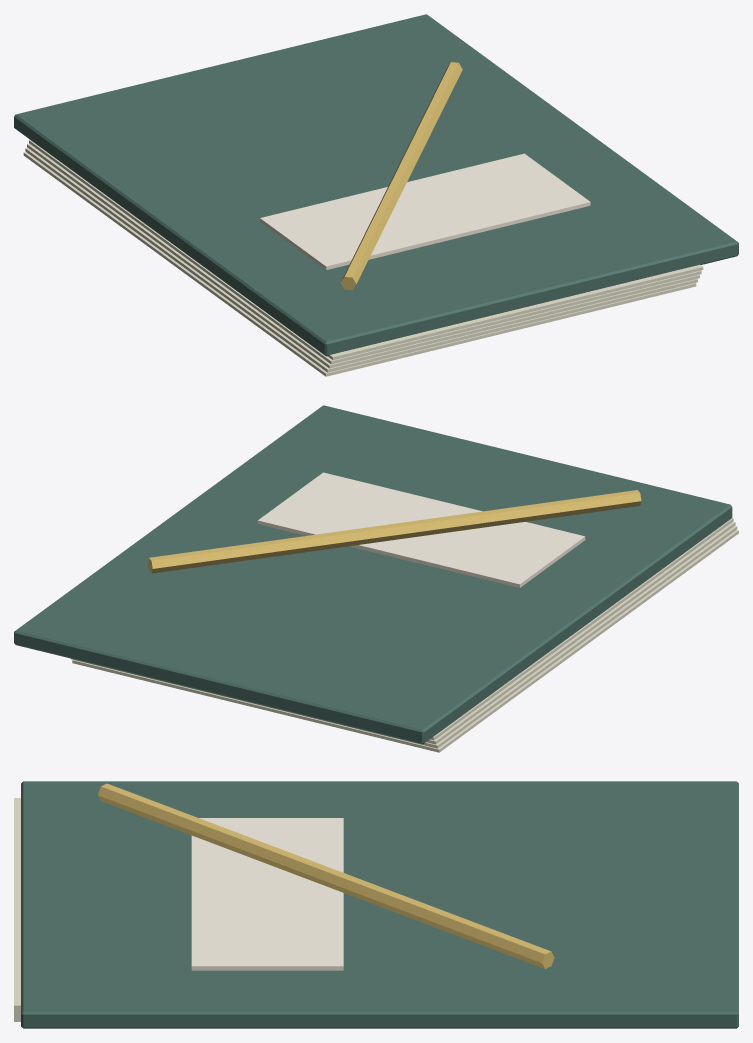
The model's file is document_stack.glb.
3 renders of one model, top to bottom at view 1: azimuth 30°, elevation 25°; view 2: azimuth 150°, elevation 25°; view 3: azimuth 270°, elevation 25°, orthographic. The views are drawn at different scales.
Parts seen in each view (by area): view 1: document_stack__book_teal, document_stack__white, document_stack__paper, document_stack__sticky_yellow; view 2: document_stack__book_teal, document_stack__white, document_stack__sticky_yellow, document_stack__paper; view 3: document_stack__book_teal, document_stack__white, document_stack__sticky_yellow, document_stack__paper.
Boxes of the visible parts, box(x1,y1,x2,y2) form: document_stack__book_teal: box(14, 14, 738, 356); document_stack__white: box(260, 153, 590, 269); document_stack__paper: box(23, 140, 703, 376); document_stack__sticky_yellow: box(340, 62, 462, 290); document_stack__book_teal: box(14, 405, 732, 744); document_stack__white: box(257, 472, 585, 587); document_stack__sticky_yellow: box(147, 490, 641, 573); document_stack__paper: box(71, 518, 738, 752); document_stack__book_teal: box(21, 781, 738, 1028); document_stack__white: box(191, 818, 343, 970); document_stack__sticky_yellow: box(98, 783, 554, 968); document_stack__paper: box(14, 798, 20, 1021).
Bounding box in the file's own units: 0.2365 × 0.0303 × 0.31.
